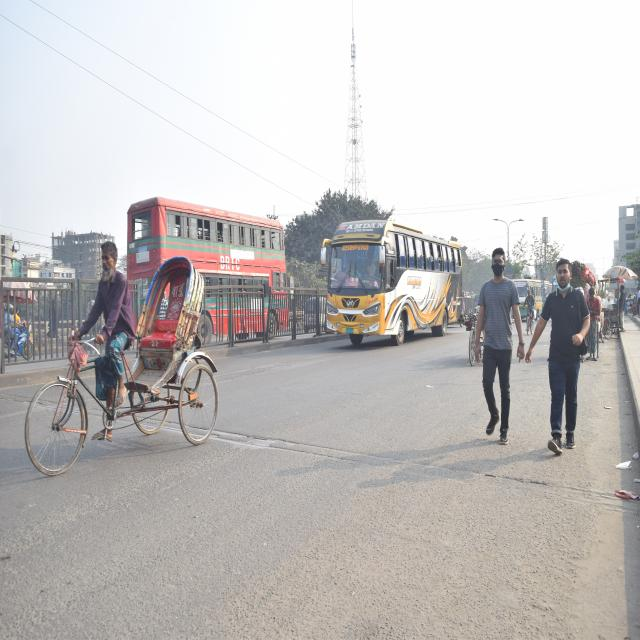bus: (121, 200, 291, 340), (321, 215, 464, 346), (515, 273, 542, 326)
motorbike: (1, 306, 38, 362)
